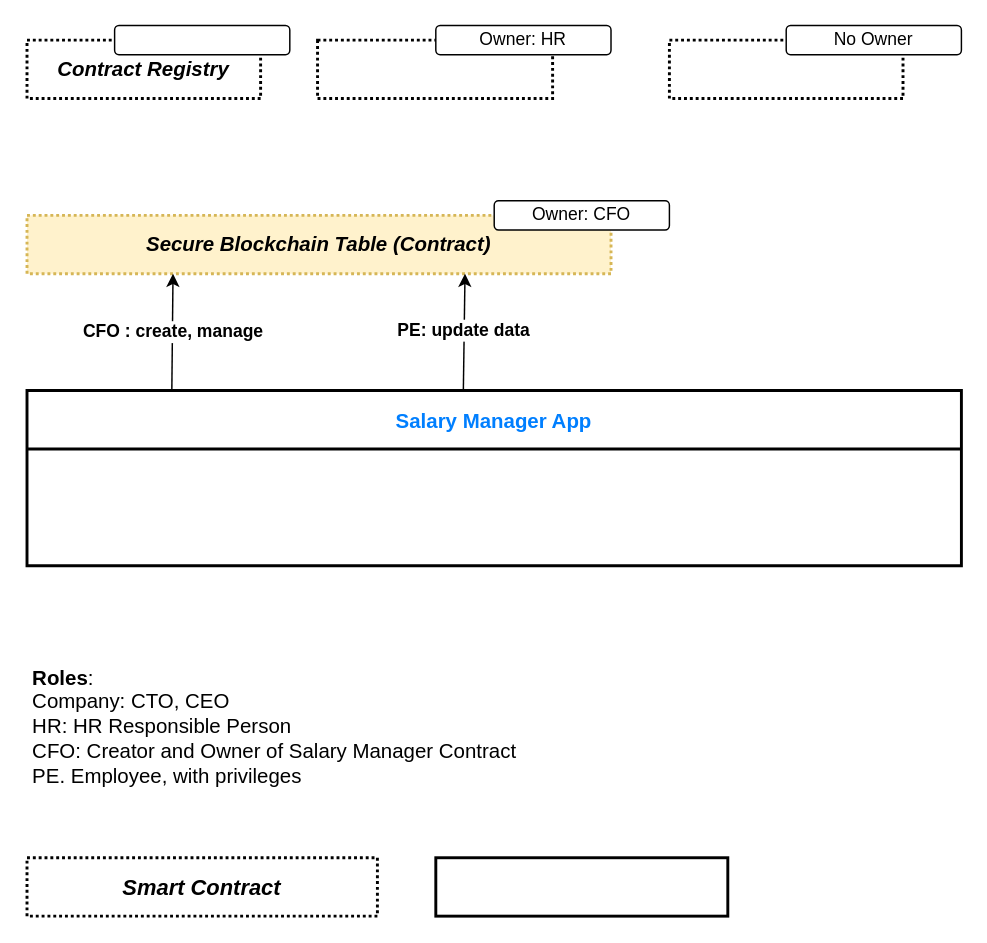
The diagram is 987 pixels wide and 943 high, and some of its shapes have lost their labels. Here are the shapes that lost their labels. From the top down, the box of each, then its label:
(113, 24, 290, 55): Owner: Company
(315, 38, 553, 99): Address Book
(667, 38, 904, 99): Public Key Store
(434, 856, 729, 917): React Component
